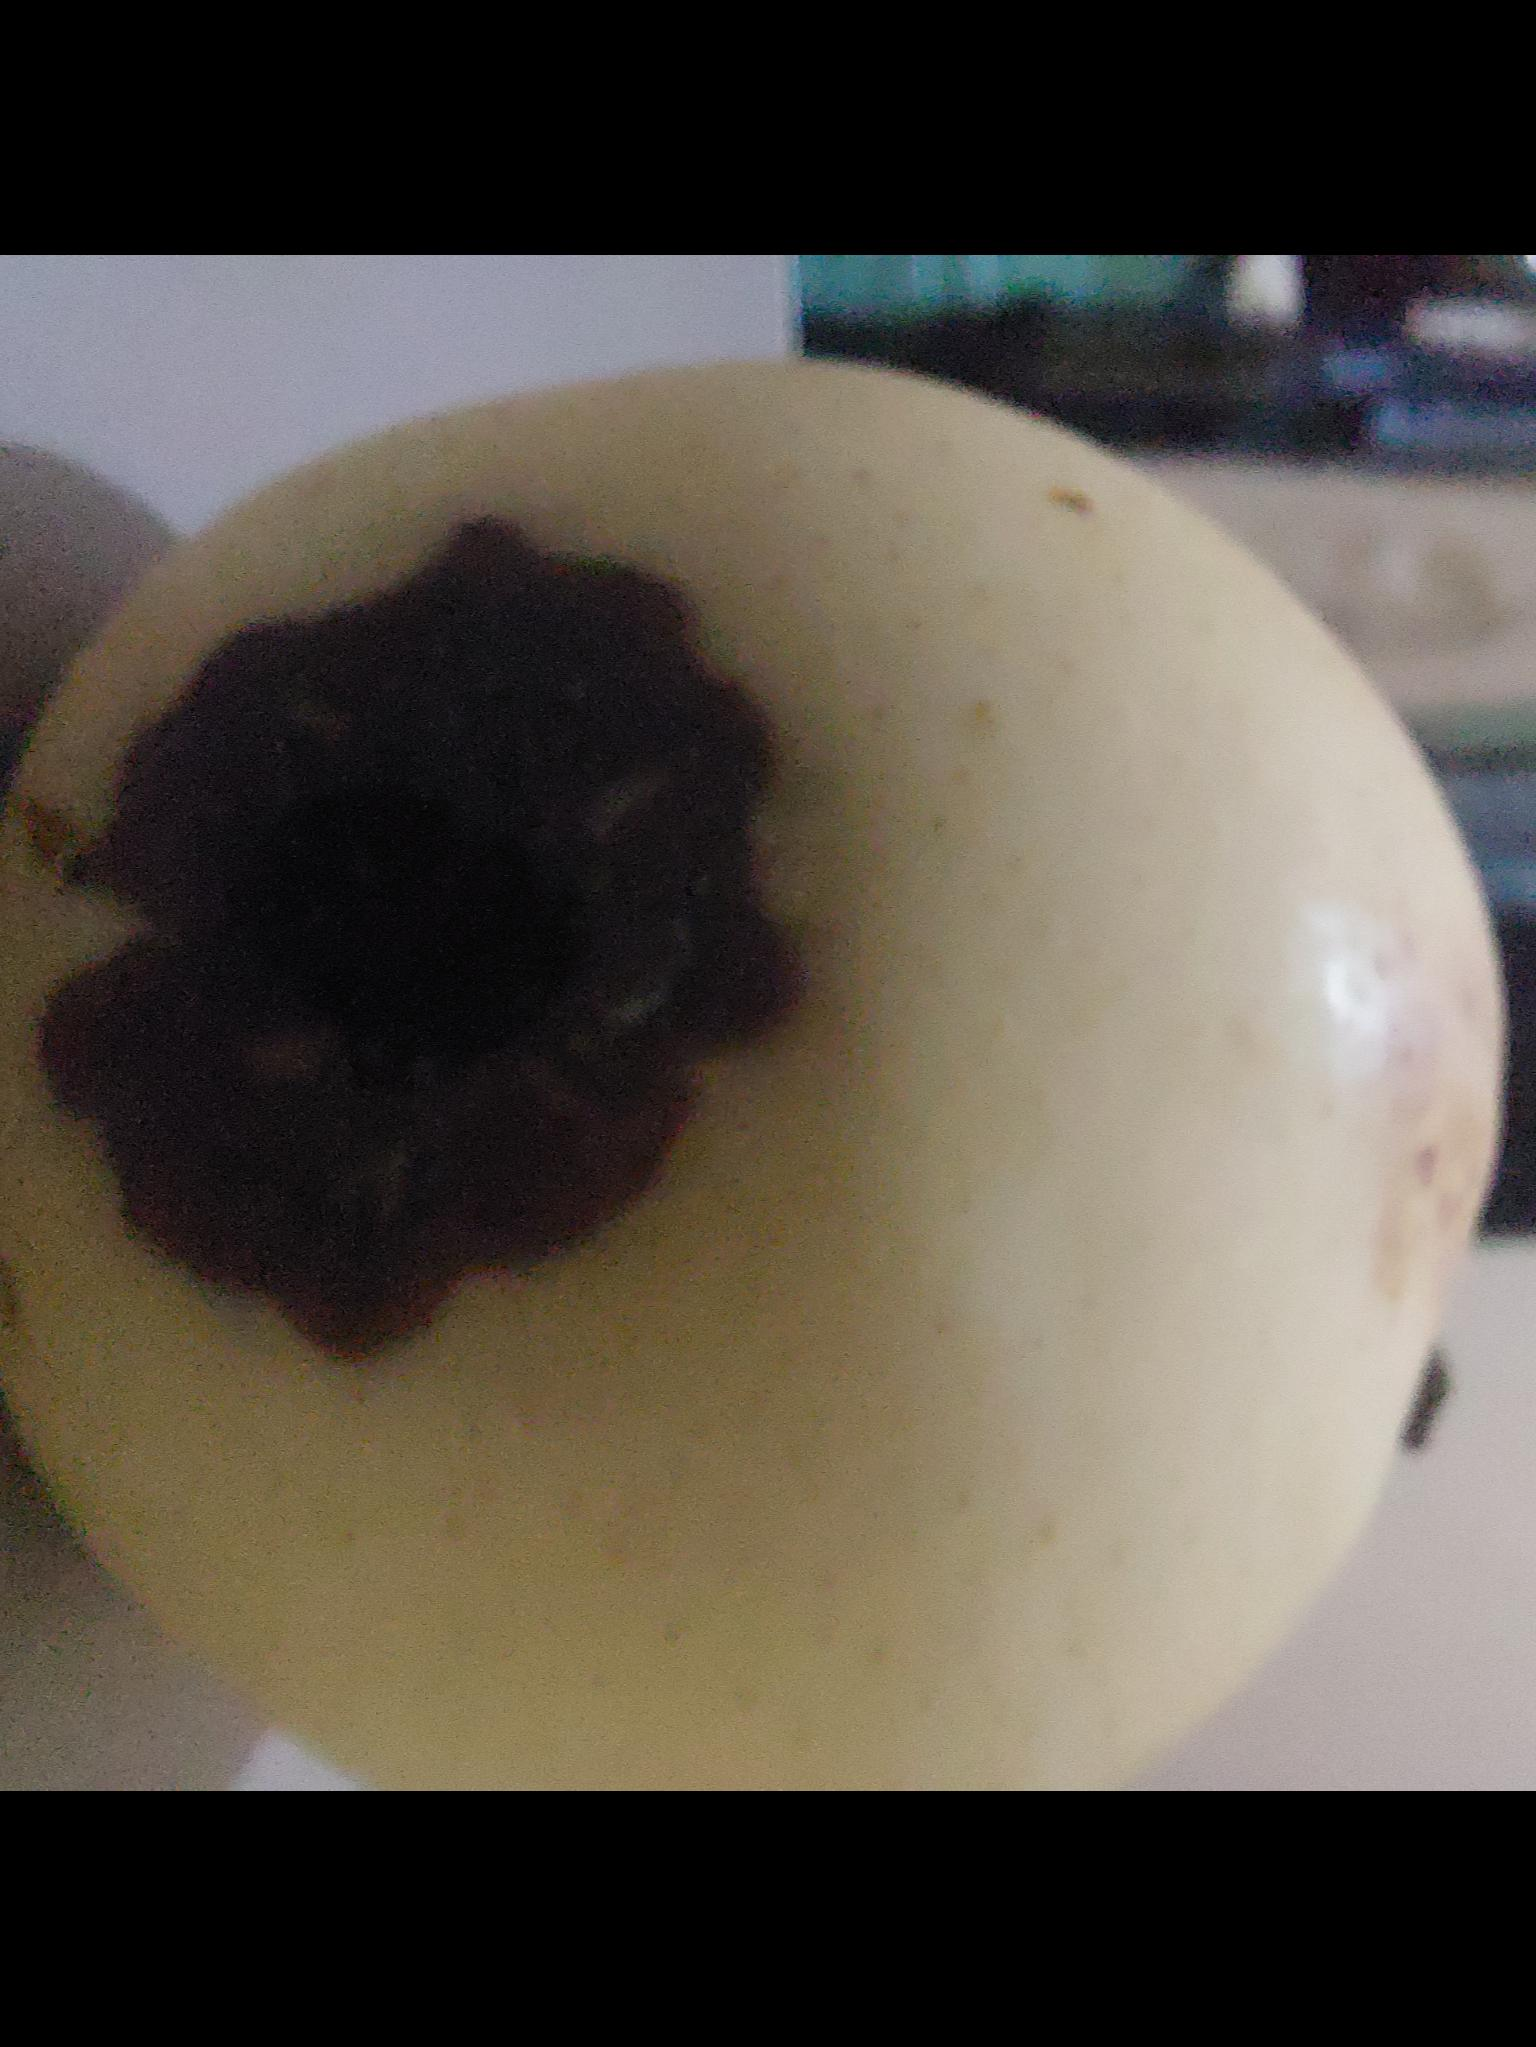Bad Pear: (0, 365, 1229, 1692)
